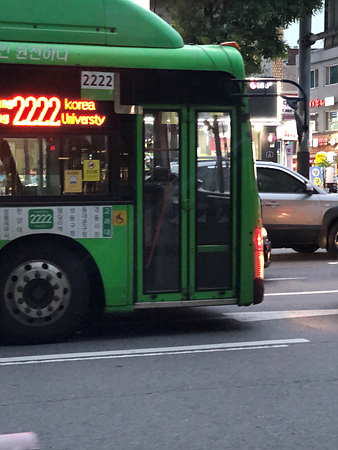entrance: (136, 97, 242, 305)
